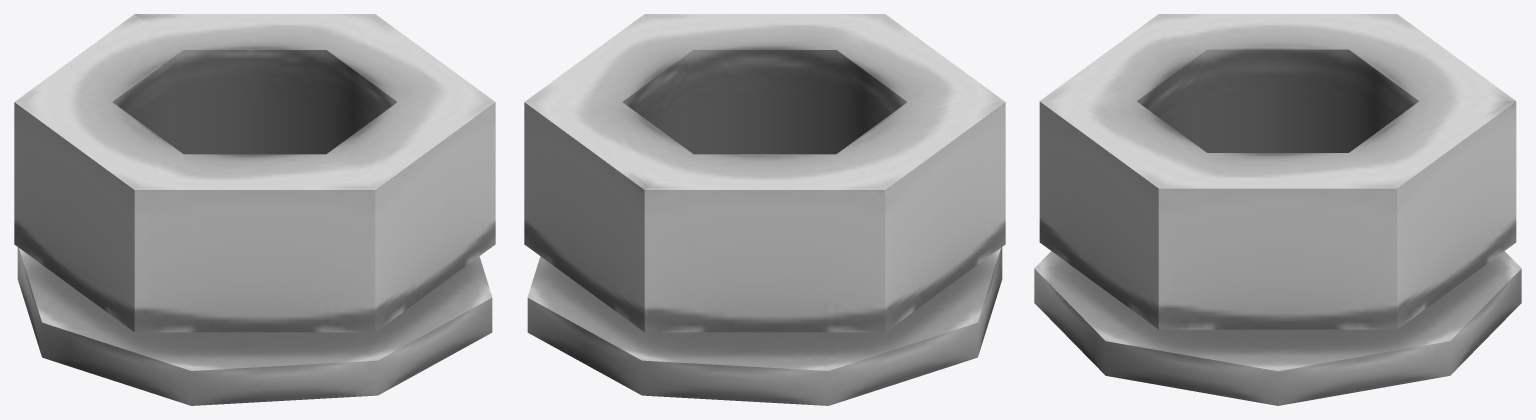
3 renders of one model, left to right at view 1: azimuth 30°, elevation 25°; view 2: azimuth 150°, elevation 25°; view 3: azimuth 270°, elevation 25°, orthographic.
Visible parts, largest first — view 1: luosi_4_PZLS_1_pengzahngluosi_polySurface693, polySurface694_luosi_4_PZLS_1_pengzahngluosi; view 2: luosi_4_PZLS_1_pengzahngluosi_polySurface693, polySurface694_luosi_4_PZLS_1_pengzahngluosi; view 3: luosi_4_PZLS_1_pengzahngluosi_polySurface693, polySurface694_luosi_4_PZLS_1_pengzahngluosi.
Boxes of the visible parts, x1,y1,x2,y2 form: luosi_4_PZLS_1_pengzahngluosi_polySurface693: (14,14,495,332); polySurface694_luosi_4_PZLS_1_pengzahngluosi: (17,247,492,405); luosi_4_PZLS_1_pengzahngluosi_polySurface693: (524,14,1005,332); polySurface694_luosi_4_PZLS_1_pengzahngluosi: (527,247,1002,405); luosi_4_PZLS_1_pengzahngluosi_polySurface693: (1039,14,1516,329); polySurface694_luosi_4_PZLS_1_pengzahngluosi: (1034,251,1521,405).
Bounding box in the file's own units: 2.28 × 1.04 × 2.28.
1 material, 1 textured.
